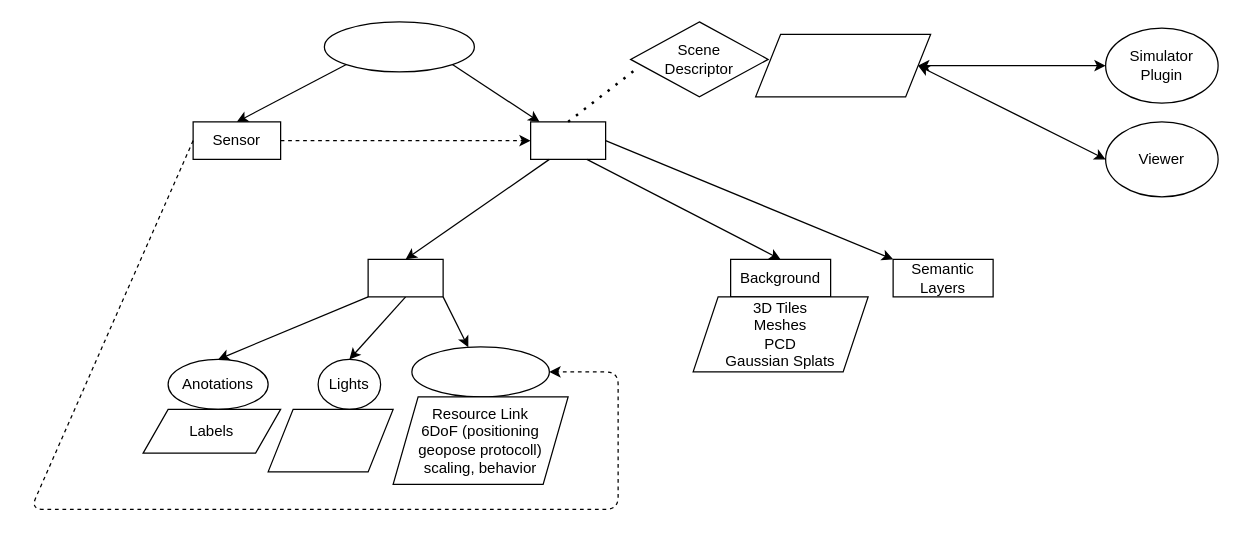
Image size: 1240x541. Some labels were removed from this diagram. The centre of each missing label's shape, as x and y in pixels:
Asset Representation: [480,371]
Entities, Position, Center, Edges etc..: [842,65]
Scene: [567,140]
Service Path: [398,46]
Type Position Orientation ...: [330,440]
Virtual Assets: [405,277]
